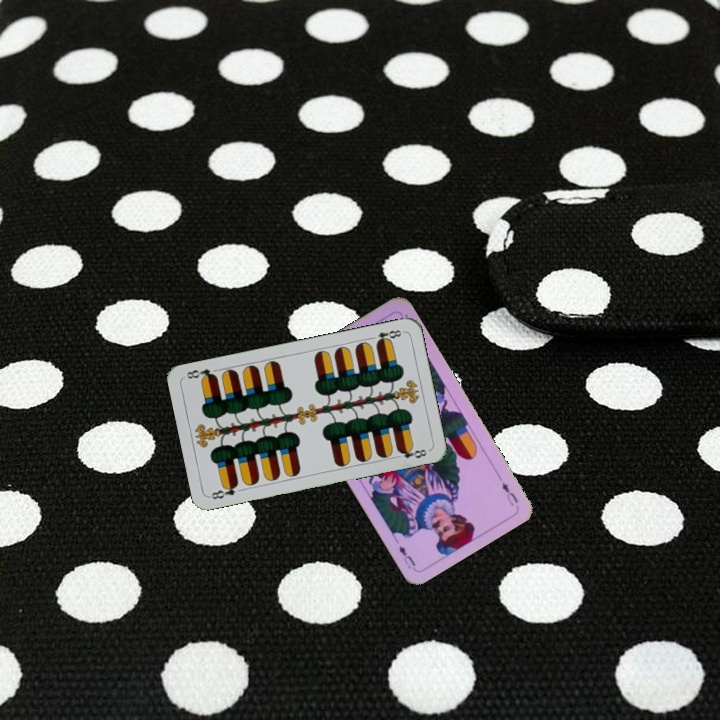E8: (366, 326, 404, 347), (207, 479, 241, 502)
EU: (498, 478, 521, 509)
